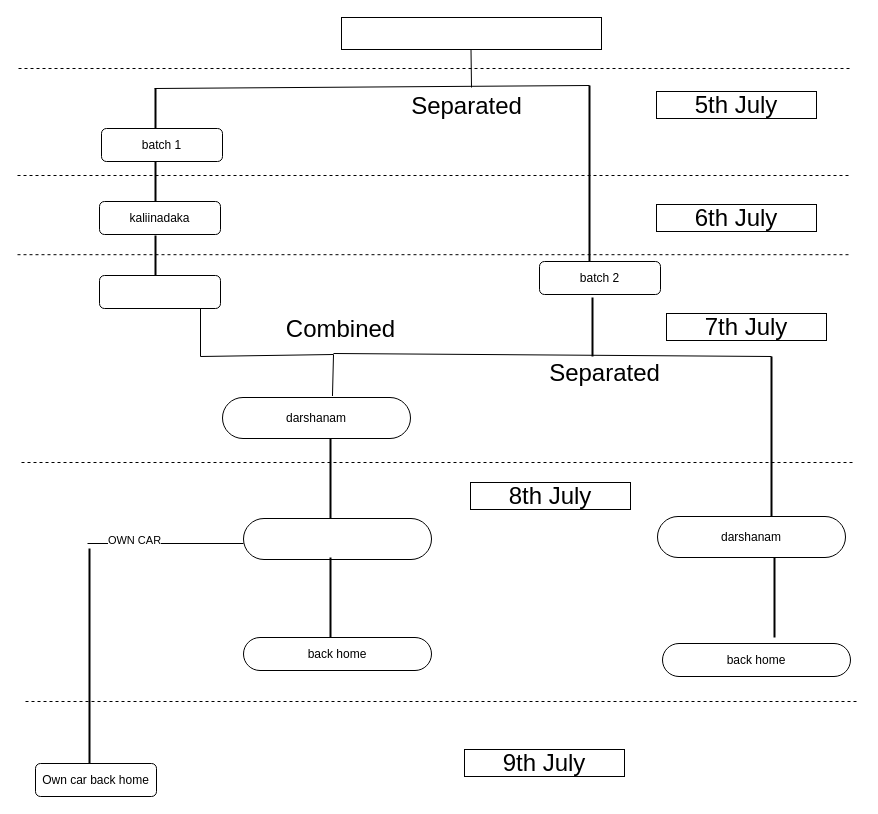
Image size: 878x814. Some labels were removed from this diagram. Here are the shapes that lost their labels. From the top down, the box of each, then its label:
(340, 16, 602, 50): tirupati Trip
(98, 274, 220, 308): angapradakshinam
(242, 518, 432, 560): kalahasti and mangapuram
